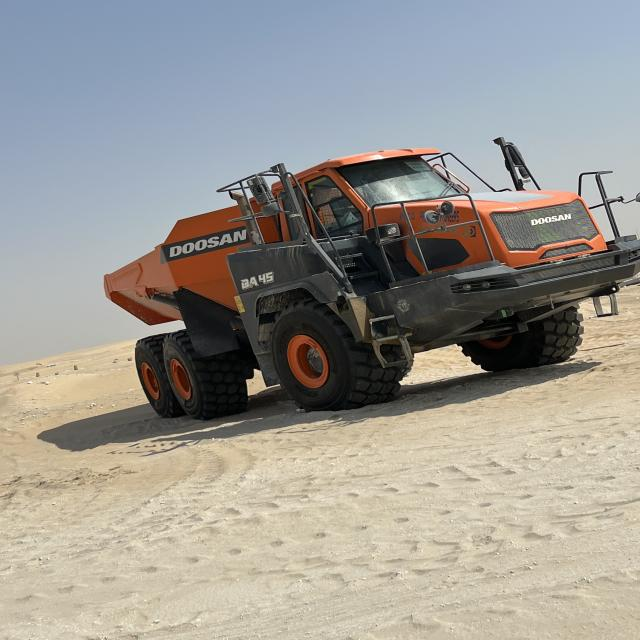Dump Truck: (101, 124, 636, 440)
